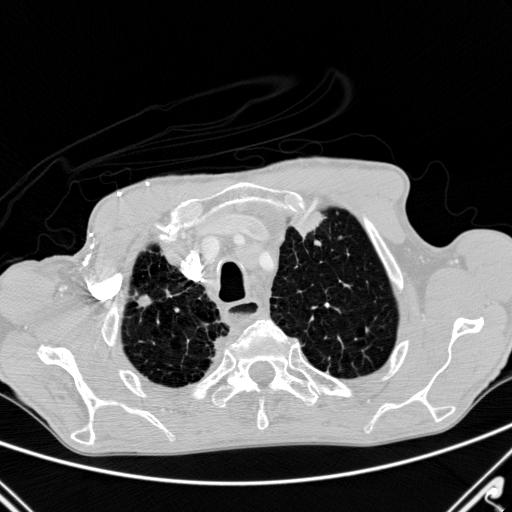nodule: (134, 292, 153, 311)
